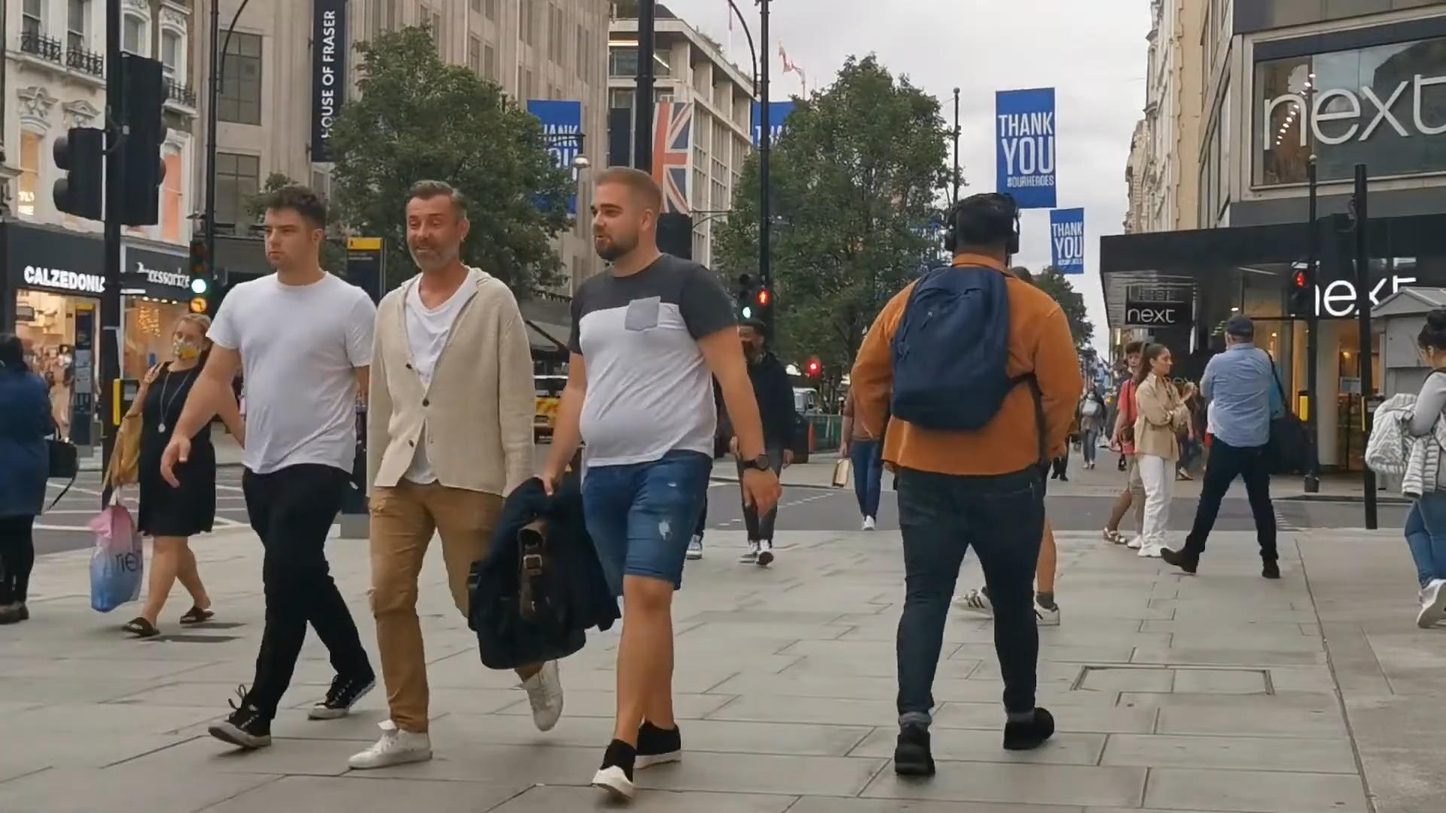no-helmet: (589, 165, 663, 262), (941, 190, 1021, 271), (403, 179, 470, 272), (262, 184, 326, 268), (171, 312, 212, 362), (1417, 310, 1446, 371), (1132, 341, 1174, 377), (739, 317, 768, 361), (1221, 314, 1255, 349), (0, 332, 23, 367)
